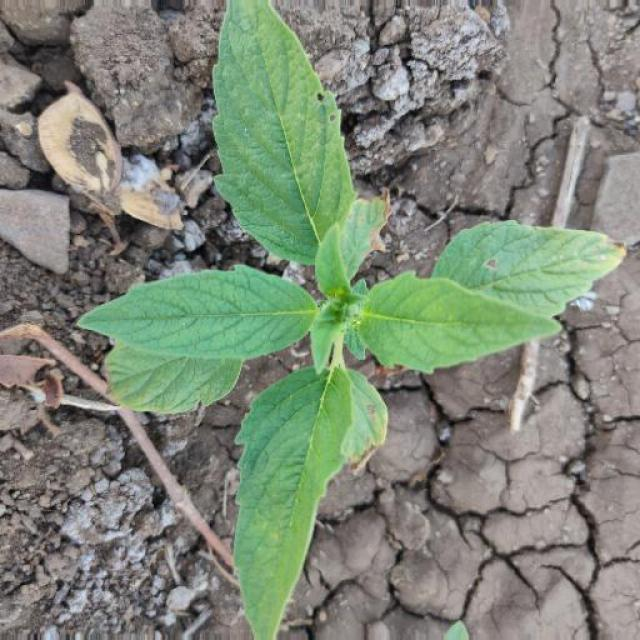crop: (52, 1, 630, 640)
